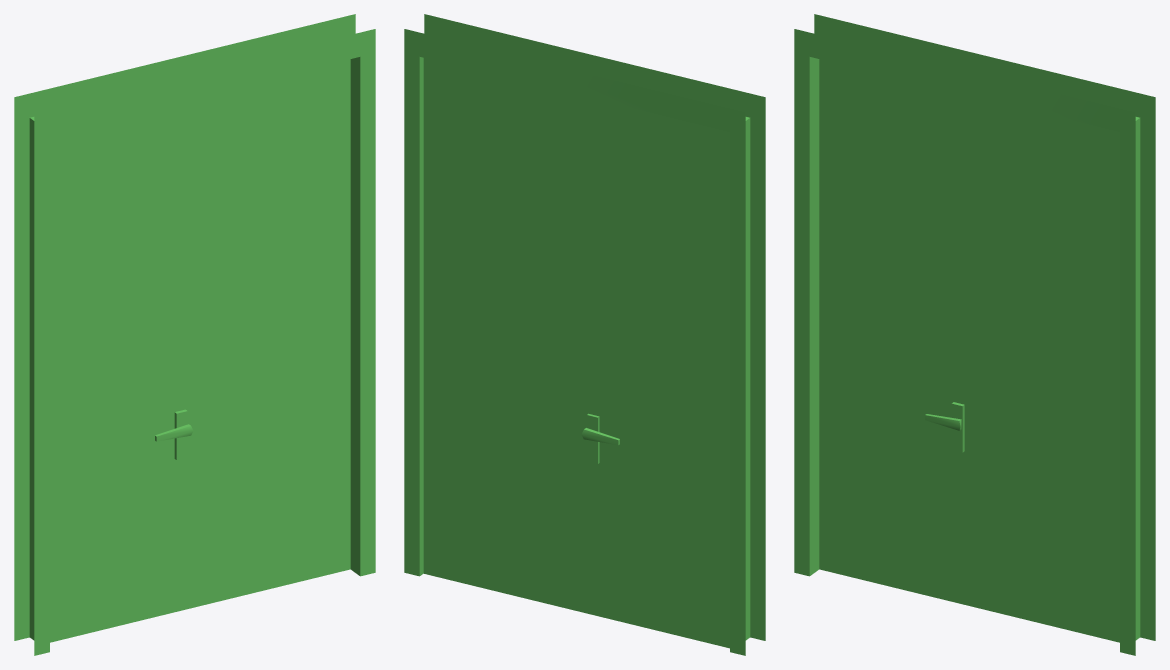
The model's file is Gen_Door_A_Closed.fbx.
3 renders of one model, left to right at view 1: azimuth 30°, elevation 25°; view 2: azimuth 150°, elevation 25°; view 3: azimuth 330°, elevation 25°, orthographic.
Parts seen in each view (by area): view 1: Gen_Door_A_Closed; view 2: Gen_Door_A_Closed; view 3: Gen_Door_A_Closed.
Part boxes in pixels (box(x1,y1,x2,y2)): Gen_Door_A_Closed: box(14, 14, 375, 655); Gen_Door_A_Closed: box(404, 14, 765, 655); Gen_Door_A_Closed: box(794, 14, 1155, 655).
Bounding box in the file's own units: 220 × 335 × 24.18.
